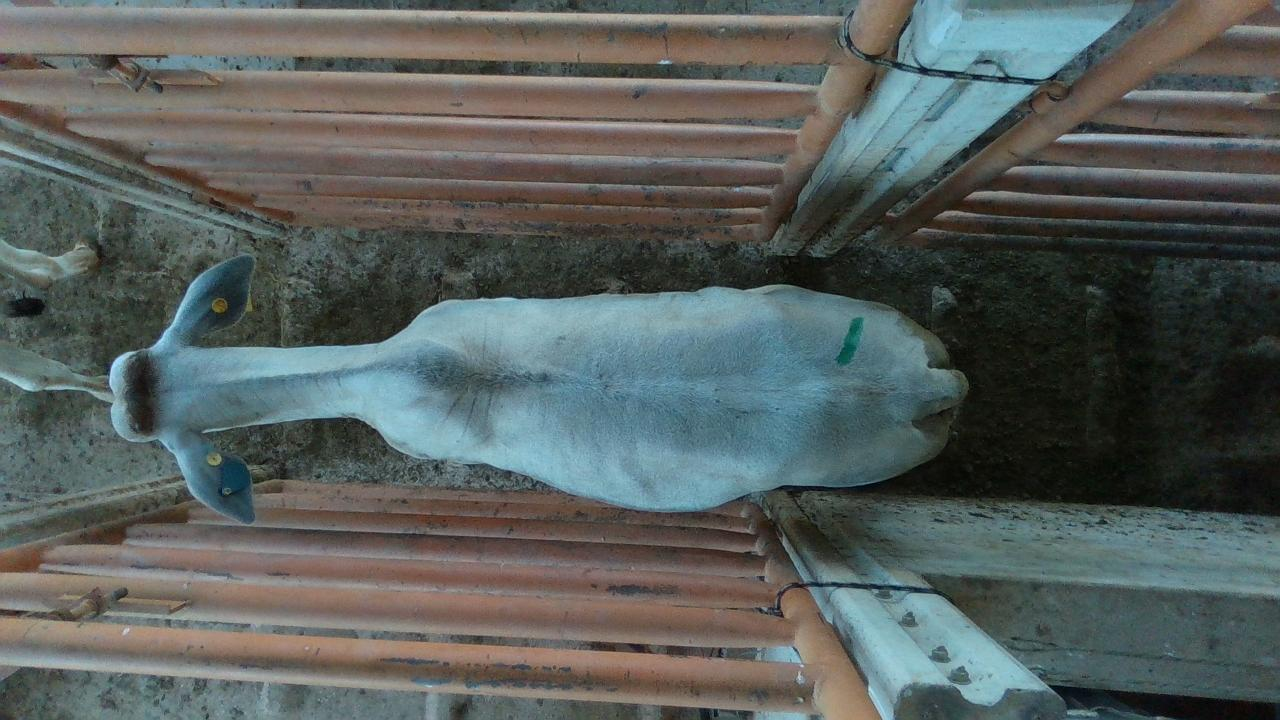cattle: (98, 251, 971, 523)
